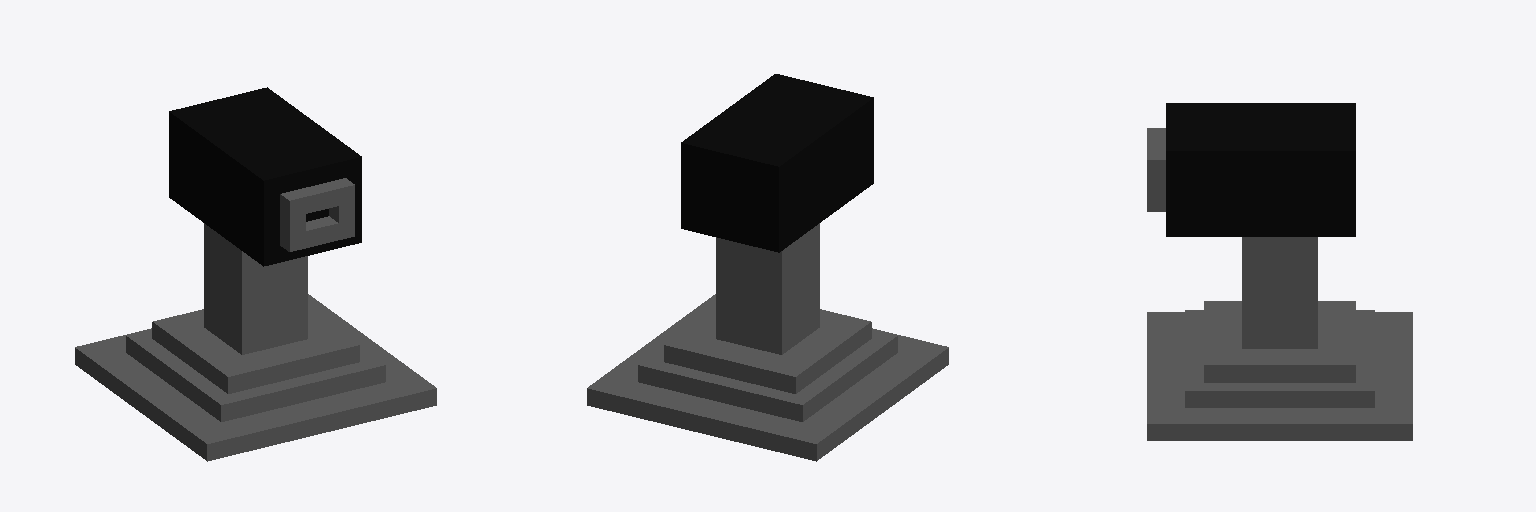
3 renders of one model, left to right at view 1: azimuth 30°, elevation 25°; view 2: azimuth 150°, elevation 25°; view 3: azimuth 270°, elevation 25°, orthographic.
Visible parts, largest first — view 1: object 1; view 2: object 1; view 3: object 1.
Part boxes in pixels (x1,y1,x2,y2): object 1: (75, 87, 436, 461); object 1: (587, 74, 948, 461); object 1: (1147, 103, 1412, 440).
Bounding box in the file's own units: 1.4 × 1.5 × 1.4.
1 materials, 1 textured.